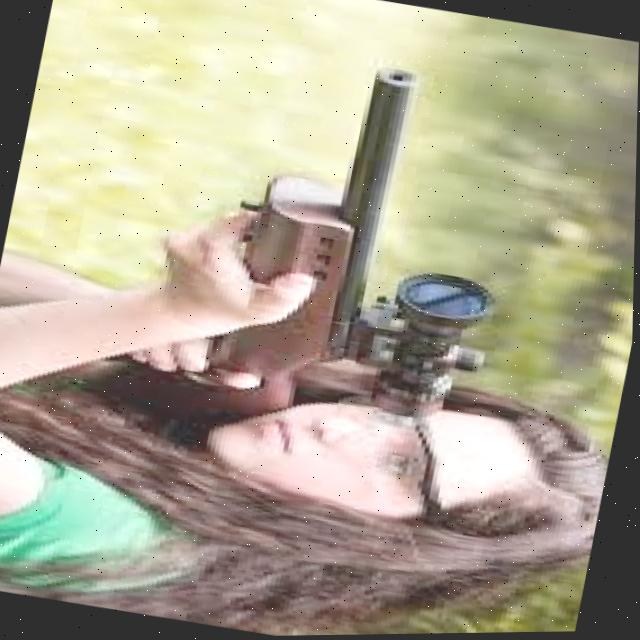firearm: (163, 41, 540, 458)
